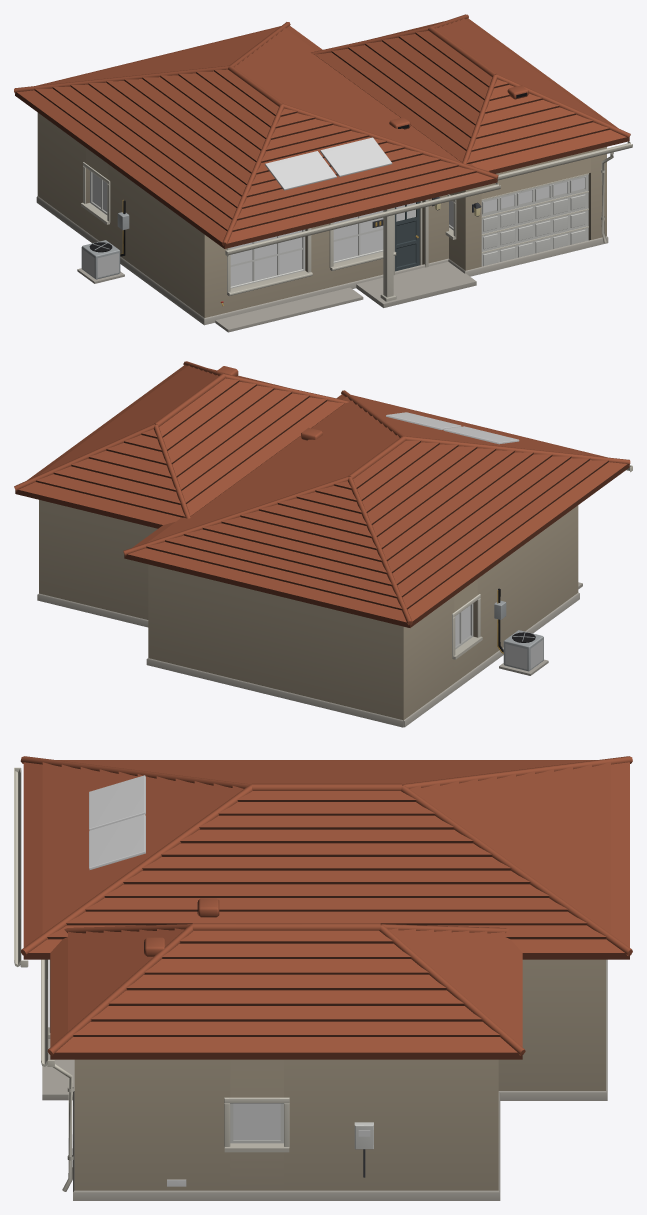
File: VillaRanch.fbx
The picture shows the model from 3 angles, top to bottom: view 1: azimuth 30°, elevation 25°; view 2: azimuth 150°, elevation 25°; view 3: azimuth 270°, elevation 25°; orthographic projection. The views are drawn at different scales.
Parts seen in each view (by area): view 1: VillaRanch; view 2: VillaRanch; view 3: VillaRanch.
Part boxes in pixels (x1,y1,x2,y2): VillaRanch: (14,14,632,332); VillaRanch: (14,361,632,727); VillaRanch: (14,756,632,1200).
Bounding box in the file's own units: 13.77 × 4.71 × 11.53.
